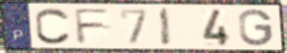4: (201, 8, 233, 48)
7: (118, 8, 149, 46)
C: (33, 6, 73, 46)
F: (72, 7, 114, 45)
G: (237, 8, 274, 48)
I: (159, 7, 173, 48)
